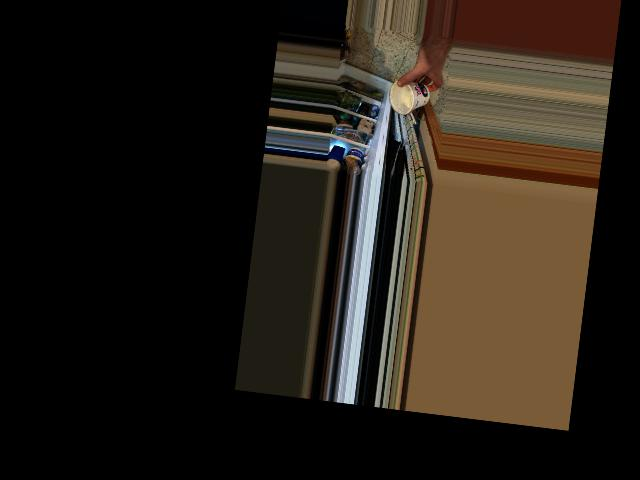cotage: (388, 77, 431, 114)
